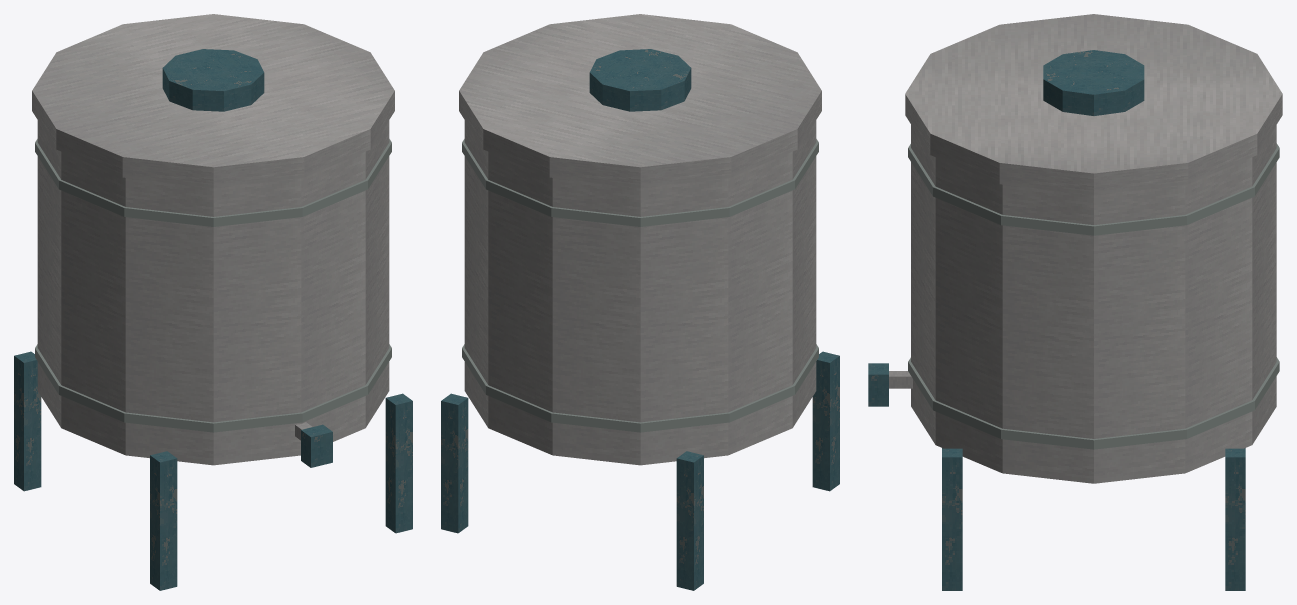
Rendered from city_roof_tank.glb.
3 renders of one model, left to right at view 1: azimuth 30°, elevation 25°; view 2: azimuth 150°, elevation 25°; view 3: azimuth 270°, elevation 25°, orthographic. The views are drawn at different scales.
Visible parts, largest first — view 1: root; view 2: root; view 3: root.
Part boxes in pixels (left/top/right/bottom): root: left=14, top=14, right=412, bottom=590; root: left=441, top=14, right=839, bottom=590; root: left=868, top=14, right=1282, bottom=590.
Size of the model in its own units: 1.28 by 1.7 by 1.41.
1 material, 1 textured.
